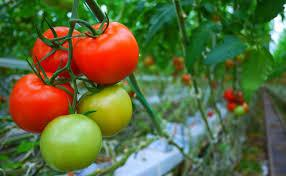tomato: (73, 21, 140, 84), (10, 73, 76, 136), (32, 26, 81, 78)
